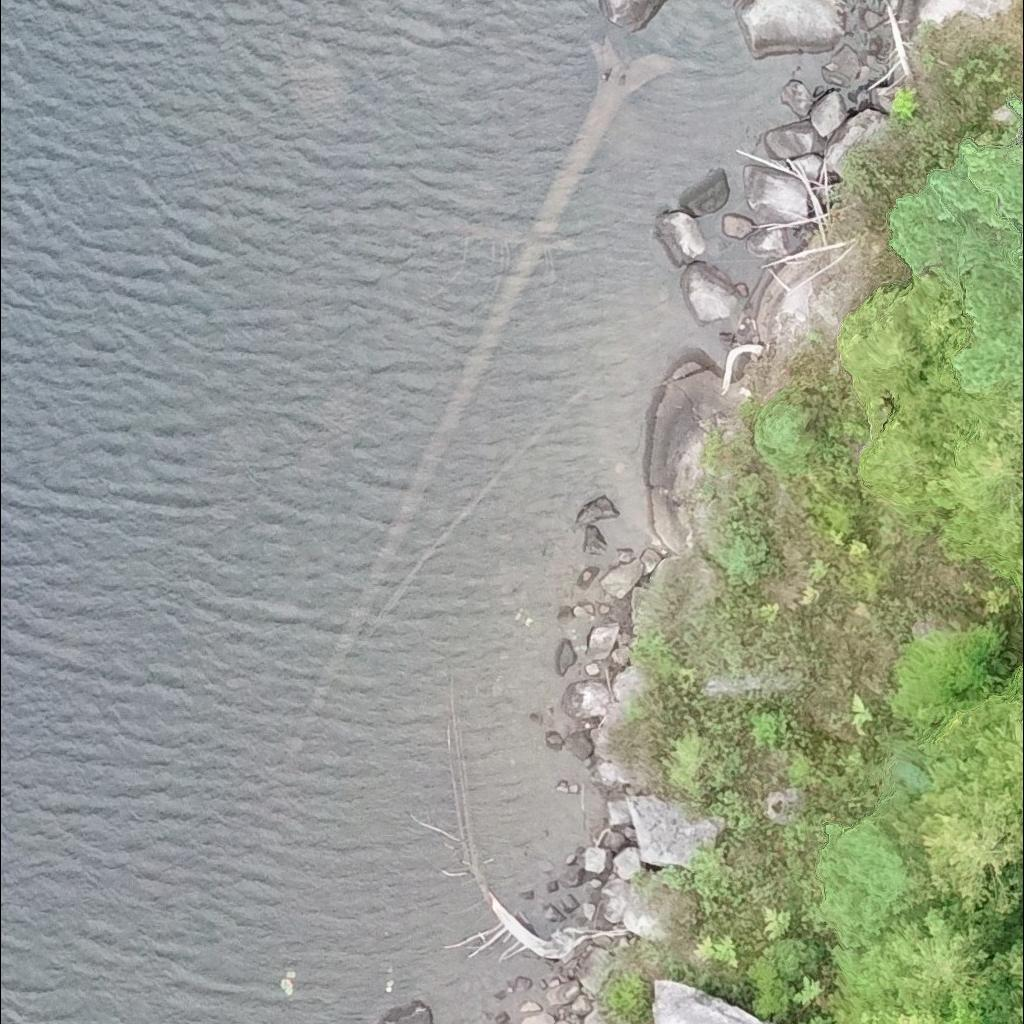crown: (888, 97, 1023, 400), (887, 776, 1023, 919), (873, 891, 1005, 1014), (934, 427, 1023, 582), (928, 664, 1023, 796), (866, 994, 983, 1023), (1007, 937, 1023, 1016), (1017, 549, 1023, 605), (1022, 665, 1023, 691)
